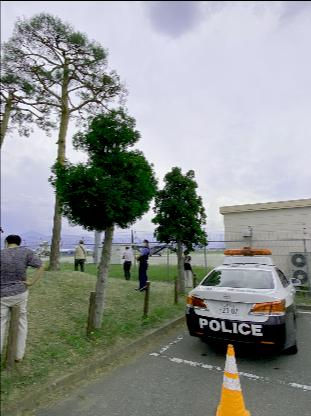Tornado: (130, 229, 176, 255)
